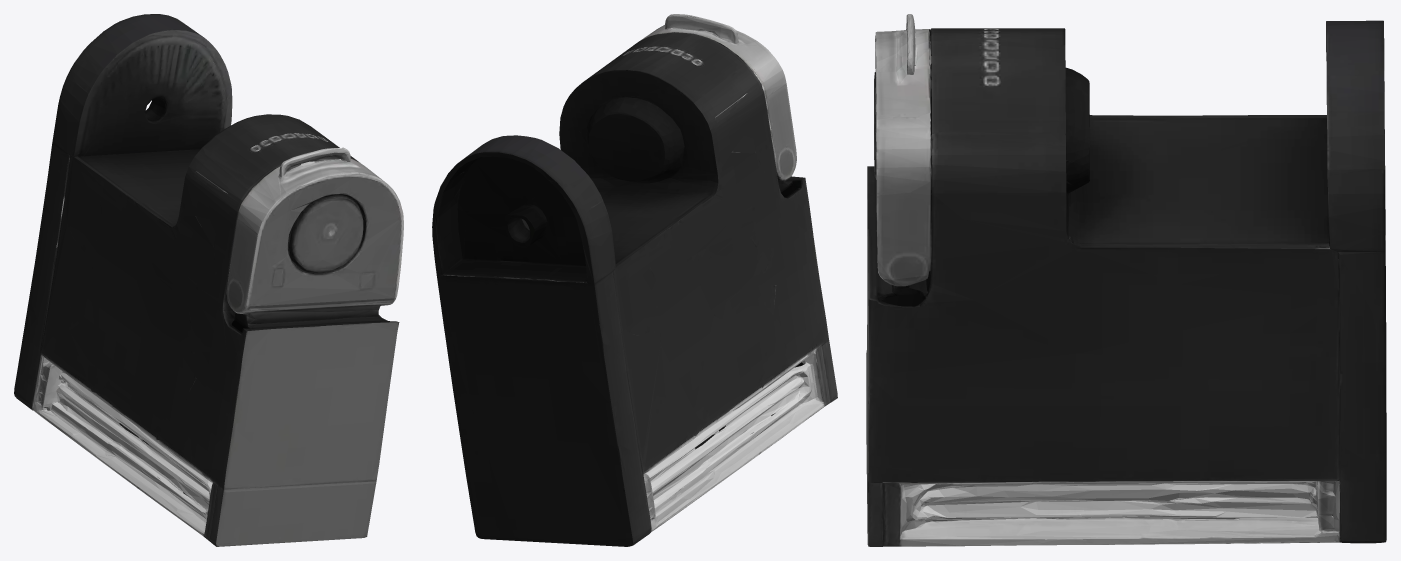
The model's file is keurig_black.glb.
3 renders of one model, left to right at view 1: azimuth 30°, elevation 25°; view 2: azimuth 150°, elevation 25°; view 3: azimuth 270°, elevation 25°, orthographic. The views are drawn at different scales.
Parts seen in each view (by area): view 1: geometry_0; view 2: geometry_0; view 3: geometry_0.
Boxes of the visible parts, left/top/right/bottom form: geometry_0: left=14, top=14, right=403, bottom=546; geometry_0: left=432, top=14, right=837, bottom=546; geometry_0: left=866, top=14, right=1386, bottom=546.
Bounding box in the file's own units: 0.1752 × 0.3266 × 0.3108.
1 material, 1 textured.
